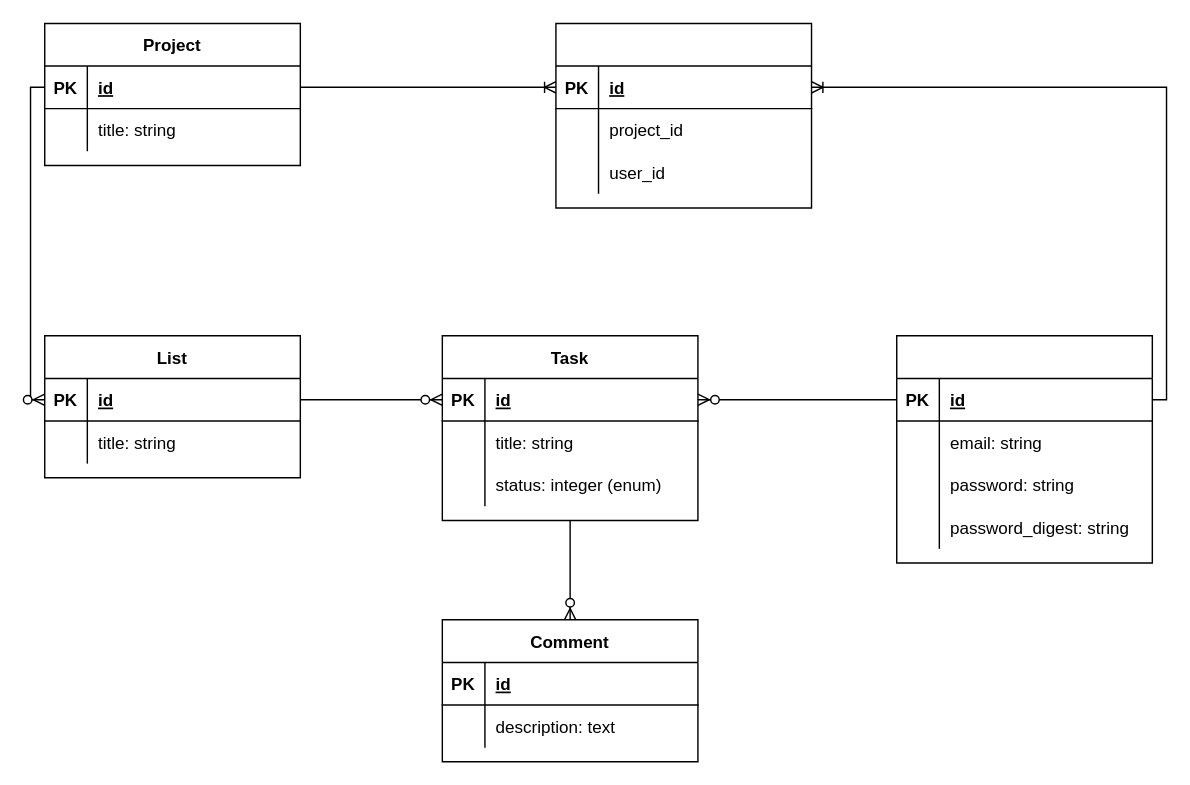
The diagram is 1190 pixels wide and 785 high, and some of its shapes have lost their labels. The shapes that lost their labels are listed below. From the top down, each one's box as (x1, y1, x2, y2) in pixels, then its label:
(555, 22, 812, 208): ProjectUser
(895, 334, 1152, 563): User
